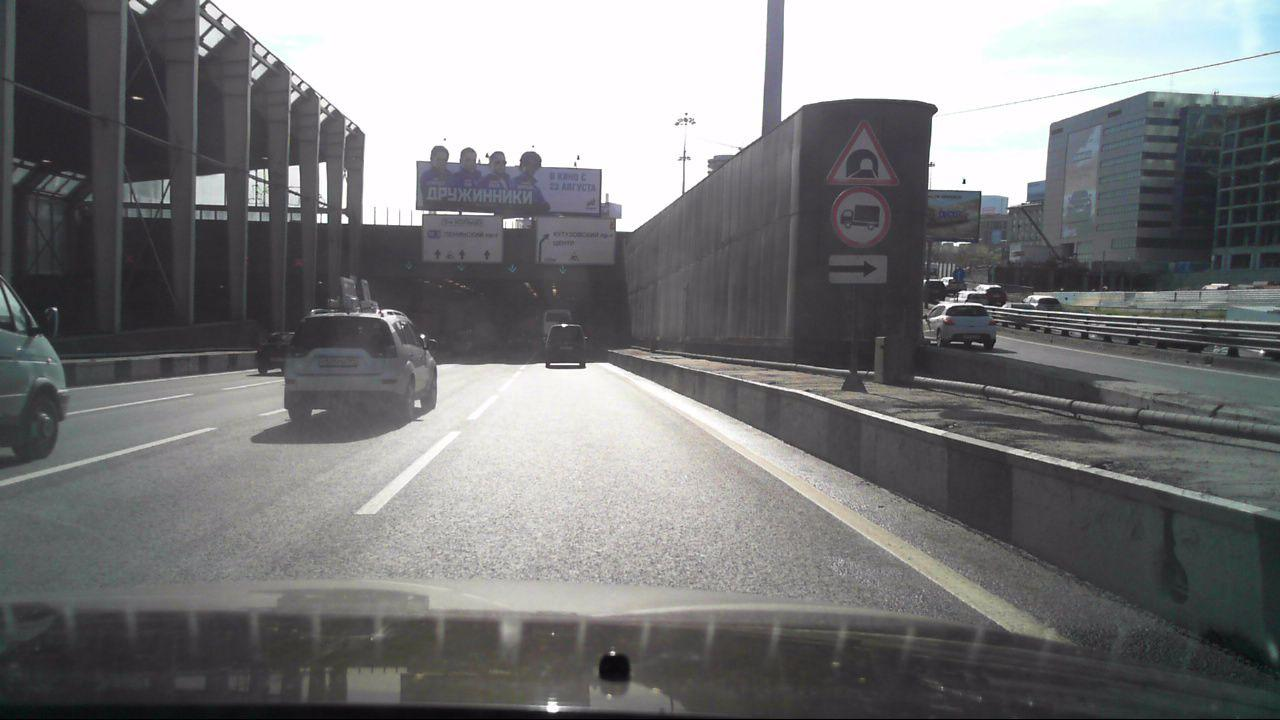1_31: (825, 121, 900, 188)
3_4: (830, 188, 893, 250)
6_9_1: (535, 214, 616, 266), (422, 214, 502, 264)
8_3_1: (828, 252, 891, 285)
